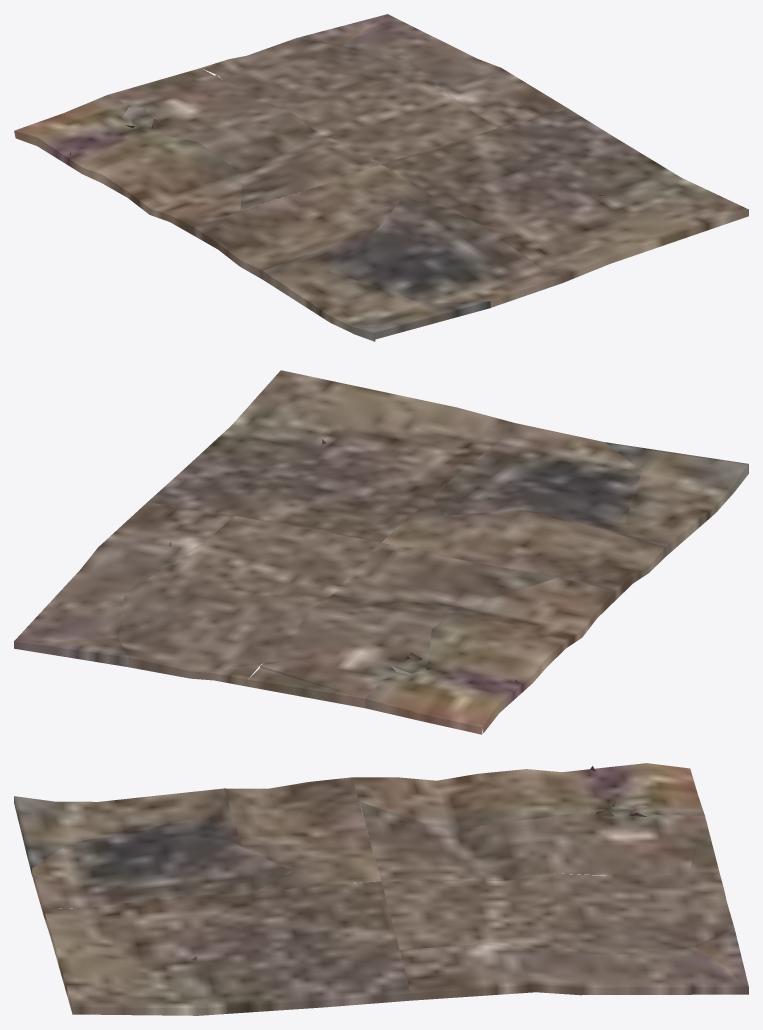
3 views of the same model, one above another, from view 1: azimuth 30°, elevation 25°; view 2: azimuth 150°, elevation 25°; view 3: azimuth 270°, elevation 25° (orthographic). The views are drawn at different scales.
Visible parts, largest first — view 1: Mesh_0; view 2: Mesh_0; view 3: Mesh_0.
Boxes of the visible parts, box(x1,y1,x2,y2) form: Mesh_0: box(14, 14, 748, 341); Mesh_0: box(14, 370, 748, 734); Mesh_0: box(14, 763, 748, 1015).
Bounding box in the file's own units: 1064 × 59.35 × 1317.
1 material, 1 textured.
